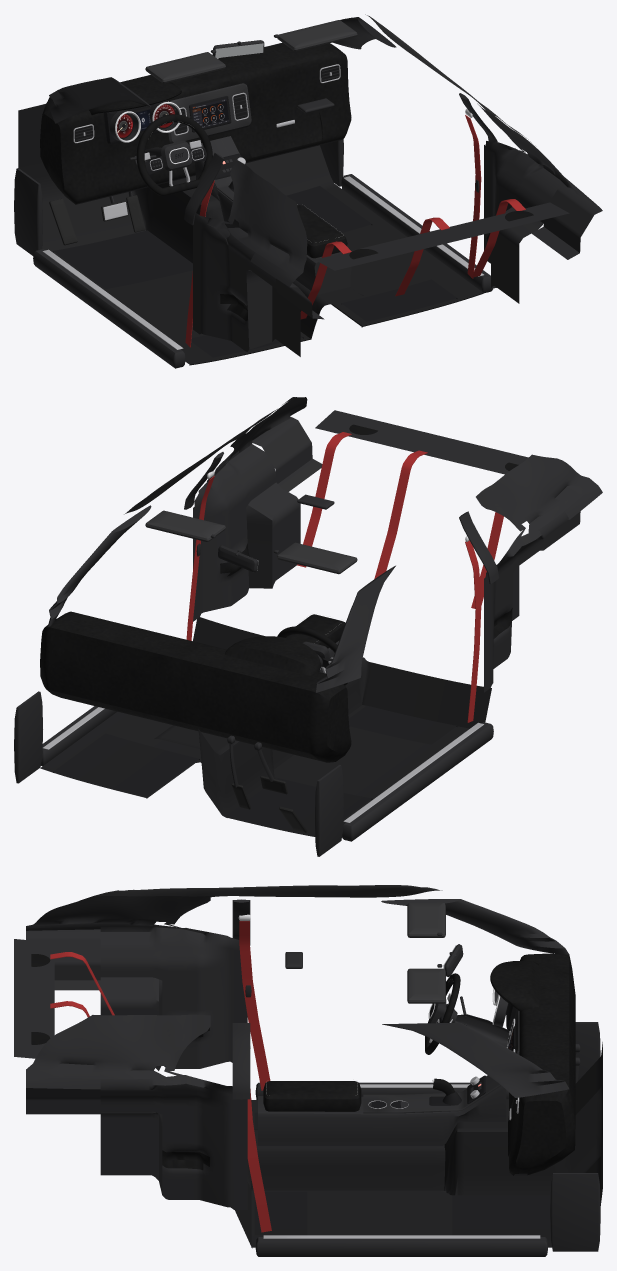
File: interior.fbx
3 views of the same model, one above another, from view 1: azimuth 30°, elevation 25°; view 2: azimuth 150°, elevation 25°; view 3: azimuth 270°, elevation 25° (orthographic). The views are drawn at different scales.
Visible parts, largest first — view 1: CH_Int_Carpet, CH_Int_Dash, CH_Int_QuarterTrim_L, CH_Int_QuarterTrim_R, CH_Int_Sill_L, CH_Int_PackageShelf, CH_Int_Sill_R, CH_Int_Belts, CH_Int_SteeringWheel, CH_Int_CentreStack, CH_Int_SunVisors, CH_Int_Console (+11 smaller); view 2: CH_Int_Carpet, CH_Int_Dash, CH_Int_QuarterTrim_R, CH_Int_QuarterTrim_L, CH_Int_Sill_L, CH_Int_Belts, CH_Int_PackageShelf, CH_Int_Sill_R, CH_Int_APillar_L, CH_Int_SunVisors, CH_Int_ClusterHood, CH_Int_APillar_R (+4 smaller); view 3: CH_Int_Carpet, CH_Int_QuarterTrim_R, CH_Int_QuarterTrim_L, CH_Int_Dash, CH_Int_Console, CH_Int_Sill_R, CH_Int_APillar_R, CH_Int_PackageShelf, CH_Int_Belts, CH_Int_Headliner, CH_Int_Armrest, CH_Int_APillar_L (+8 smaller).
Boxes of the visible parts, bbox=[...] form: CH_Int_Carpet: bbox=[18, 104, 483, 365]; CH_Int_Dash: bbox=[40, 42, 351, 204]; CH_Int_QuarterTrim_L: bbox=[193, 160, 324, 356]; CH_Int_QuarterTrim_R: bbox=[477, 103, 602, 303]; CH_Int_Sill_L: bbox=[14, 168, 185, 368]; CH_Int_PackageShelf: bbox=[315, 202, 569, 270]; CH_Int_Sill_R: bbox=[320, 139, 493, 293]; CH_Int_Belts: bbox=[185, 115, 525, 347]; CH_Int_SteeringWheel: bbox=[136, 114, 212, 195]; CH_Int_CentreStack: bbox=[168, 83, 251, 143]; CH_Int_SunVisors: bbox=[145, 20, 357, 83]; CH_Int_Console: bbox=[194, 136, 351, 294]; CH_Int_Carpet: bbox=[40, 617, 491, 836]; CH_Int_Dash: bbox=[40, 611, 351, 762]; CH_Int_QuarterTrim_R: bbox=[193, 397, 322, 621]; CH_Int_QuarterTrim_L: bbox=[476, 454, 602, 692]; CH_Int_Sill_L: bbox=[315, 722, 493, 856]; CH_Int_Belts: bbox=[186, 432, 503, 722]; CH_Int_PackageShelf: bbox=[315, 410, 528, 474]; CH_Int_Sill_R: bbox=[14, 691, 116, 783]; CH_Int_APillar_L: bbox=[315, 565, 395, 692]; CH_Int_SunVisors: bbox=[145, 510, 357, 574]; CH_Int_ClusterHood: bbox=[225, 636, 320, 675]; CH_Int_APillar_R: bbox=[48, 505, 151, 626]; CH_Int_Carpet: bbox=[235, 1042, 602, 1248]; CH_Int_QuarterTrim_R: bbox=[26, 1014, 247, 1209]; CH_Int_QuarterTrim_L: bbox=[26, 896, 247, 1070]; CH_Int_Dash: bbox=[509, 953, 575, 1175]; CH_Int_Console: bbox=[258, 1075, 506, 1145]; CH_Int_Sill_R: bbox=[255, 1173, 600, 1256]; CH_Int_APillar_R: bbox=[382, 1023, 569, 1097]; CH_Int_PackageShelf: bbox=[14, 939, 54, 1058]; CH_Int_Belts: bbox=[50, 921, 271, 1232]; CH_Int_Headliner: bbox=[80, 885, 442, 968]; CH_Int_Armrest: bbox=[263, 1079, 361, 1111]; CH_Int_APillar_L: bbox=[381, 899, 569, 954].
Bounding box in the file's own units: 1.73 × 1.23 × 2.68.
